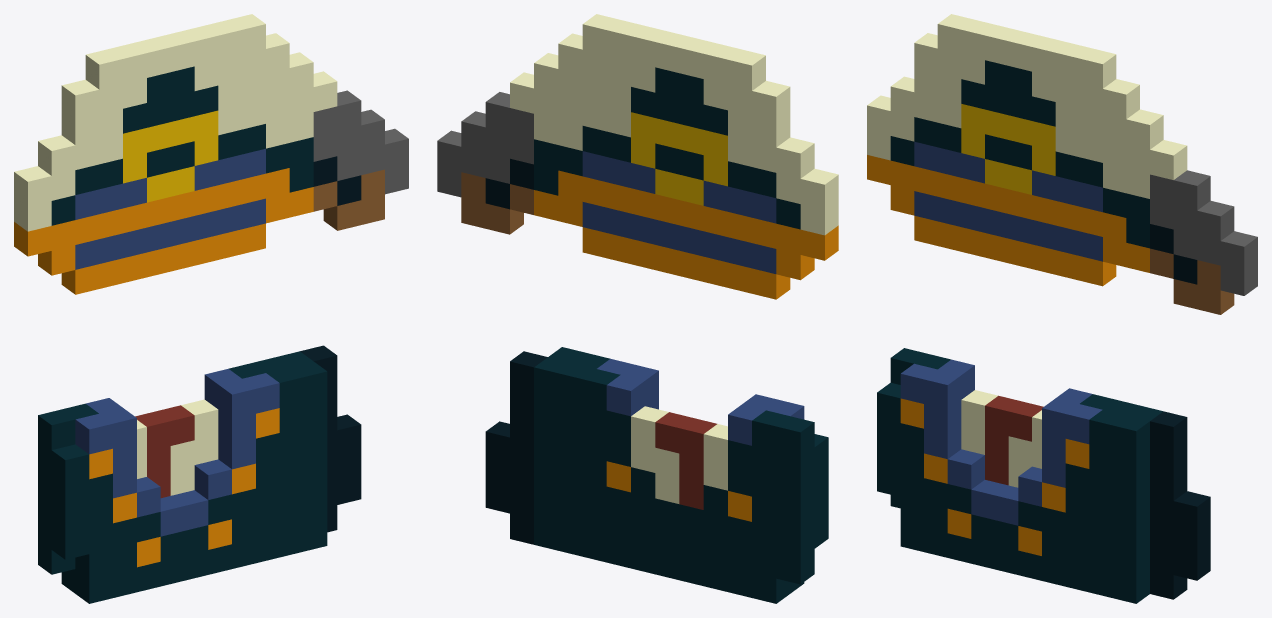
The model's file is pen3-4.obj.
3 renders of one model, left to right at view 1: azimuth 30°, elevation 25°; view 2: azimuth 150°, elevation 25°; view 3: azimuth 330°, elevation 25°, orthographic. The views are drawn at different scales.
Bounding box in the file's own units: 1.6 × 2.1 × 0.2.
Materials: 1 (1 with a texture image).
